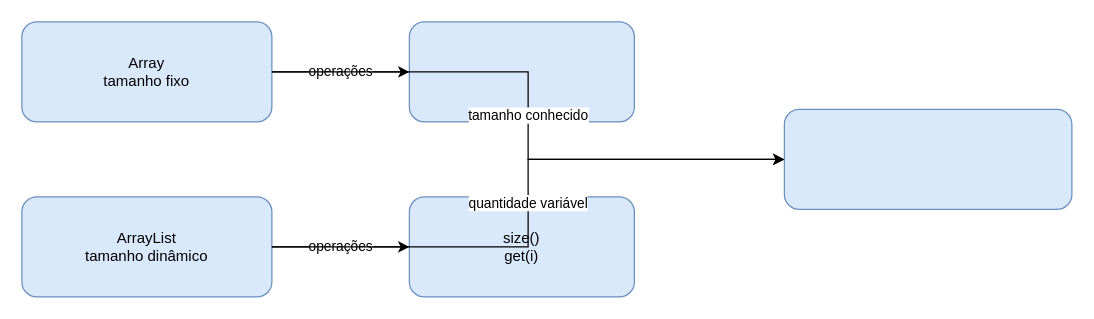
The diagram is 1094 pixels wide and 319 high, and some of its shapes have lost their labels. Each missing label, with the centre of its shape:
Escolha conforme o problema: [927,158]
length arr[i]: [521,71]
